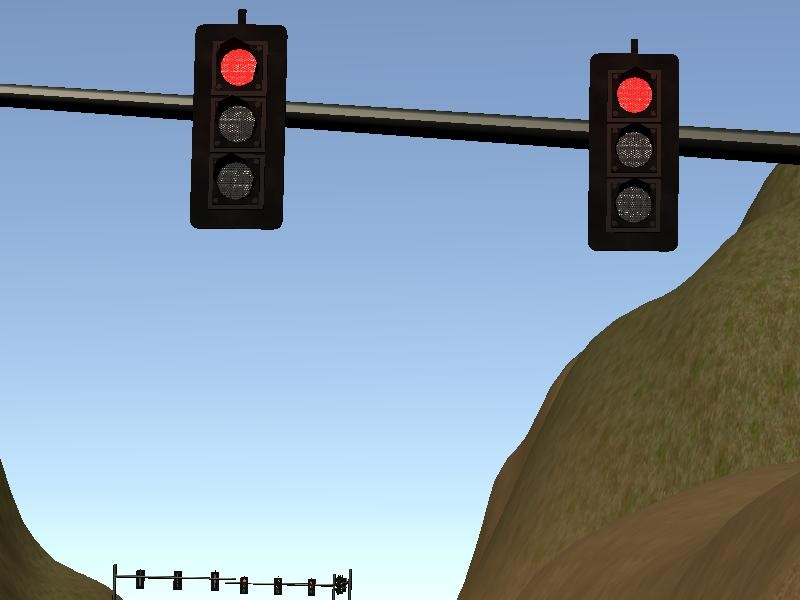red: (185, 20, 292, 237), (582, 46, 687, 263)
